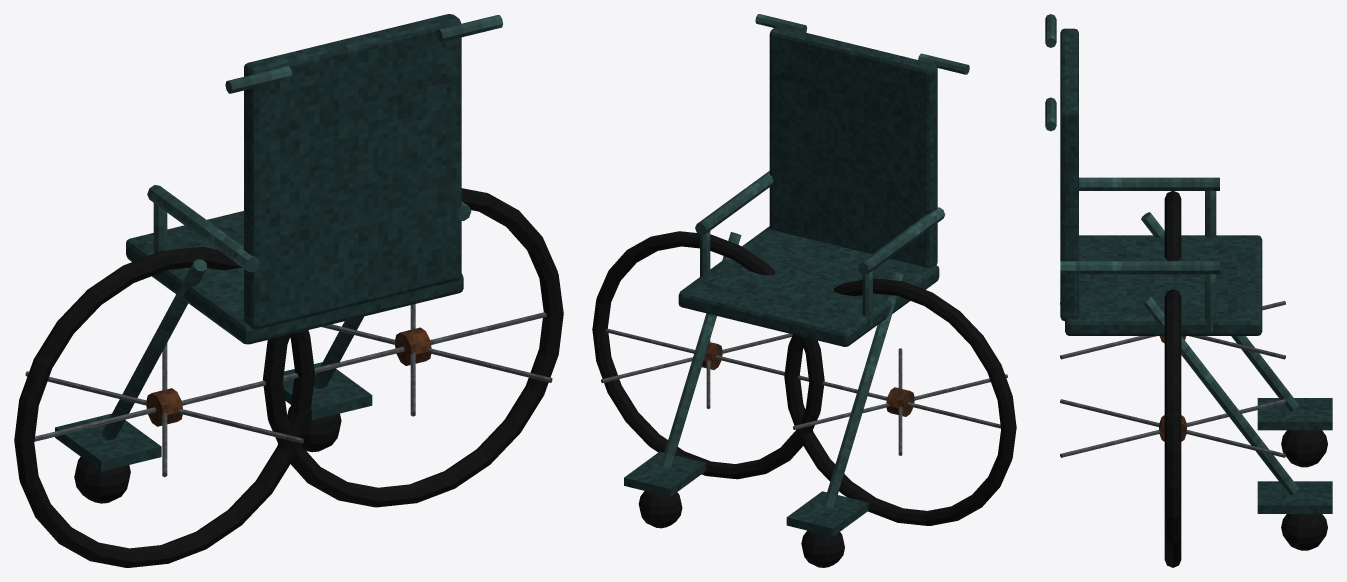
File: wheelchair.glb
3 views of the same model, side by side, from view 1: azimuth 30°, elevation 25°; view 2: azimuth 150°, elevation 25°; view 3: azimuth 270°, elevation 25° (orthographic). The views are drawn at different scales.
Visible parts, largest first — view 1: wheelchair; view 2: wheelchair; view 3: wheelchair.
Part boxes in pixels (x1,y1,x2,y2): wheelchair: (14, 14, 563, 567); wheelchair: (592, 14, 1016, 567); wheelchair: (1045, 14, 1332, 567).
Bounding box in the file's own units: 1.09 × 1.03 × 0.612.
Materials: 5 (5 with a texture image).
